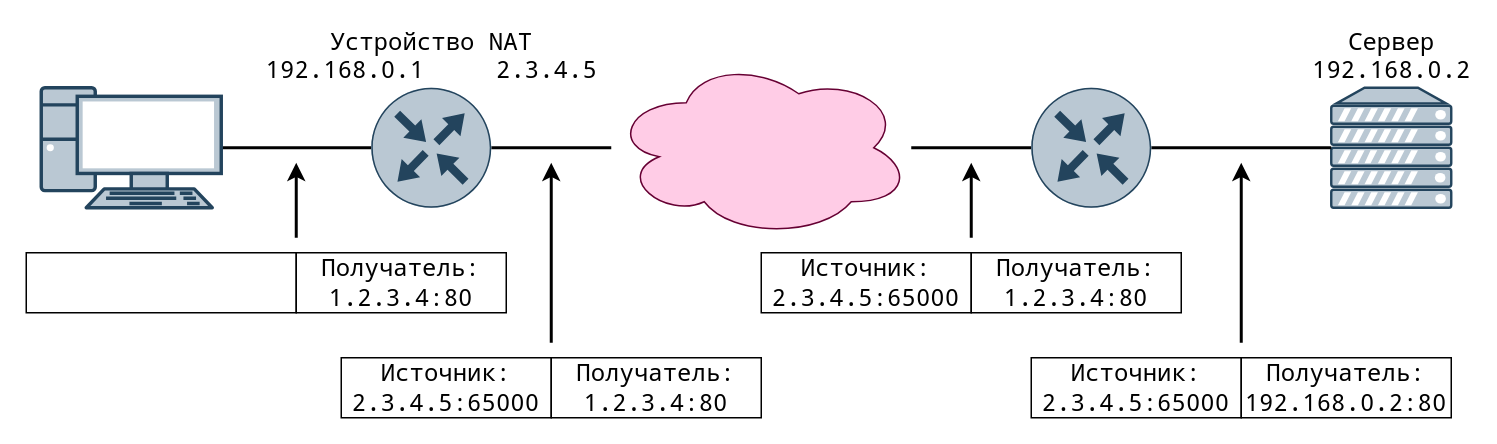
The diagram is 1497 pixels wide and 444 high, and some of its shapes have lost their labels. Each missing label, with the centre of its shape:
"Интернет" goes at point 760,147.
"Источник: 192.168.0.2:65000" goes at point 160,282.
"Клиент 192.168.0.2" goes at point 130,147.
"Устройство NAT 1.2.3.4 192.168.0.1" goes at point 1090,147.
